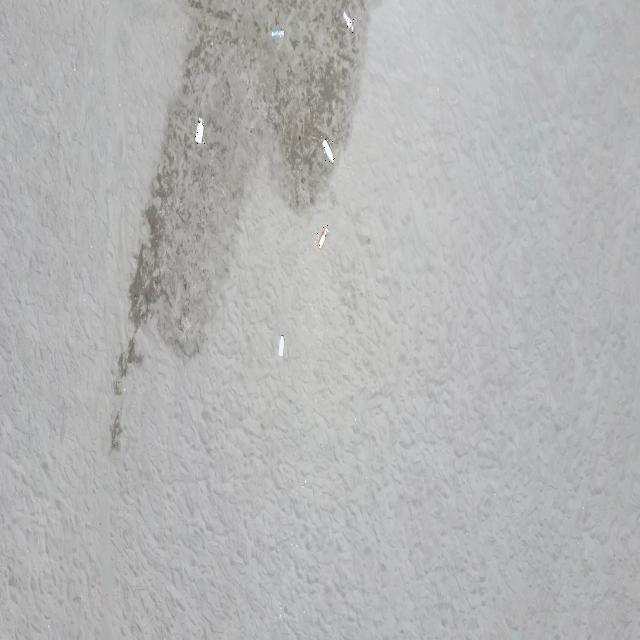plastic-bottle: (320, 136, 335, 163), (317, 224, 330, 250), (195, 116, 205, 144), (343, 12, 354, 33), (278, 335, 286, 358), (271, 27, 285, 39)
